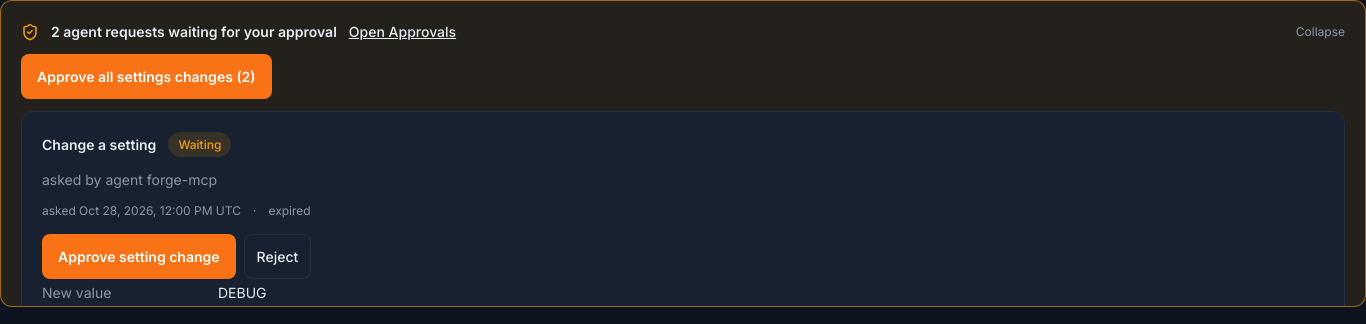
[ApprovalsBanner] › should approve from the banner with ONE post and no agent header, then drop the card
Step 1. Click the button with test id "approve-a" → (139, 256), box [42,233,236,278]
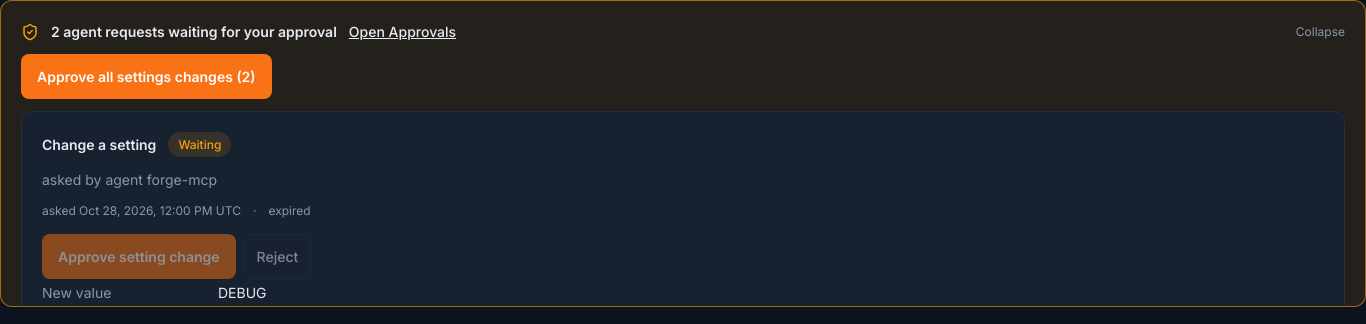
Step 2. Click the button with test id "approve-a" → (139, 256), box [42,233,236,278]
(page scrolled)
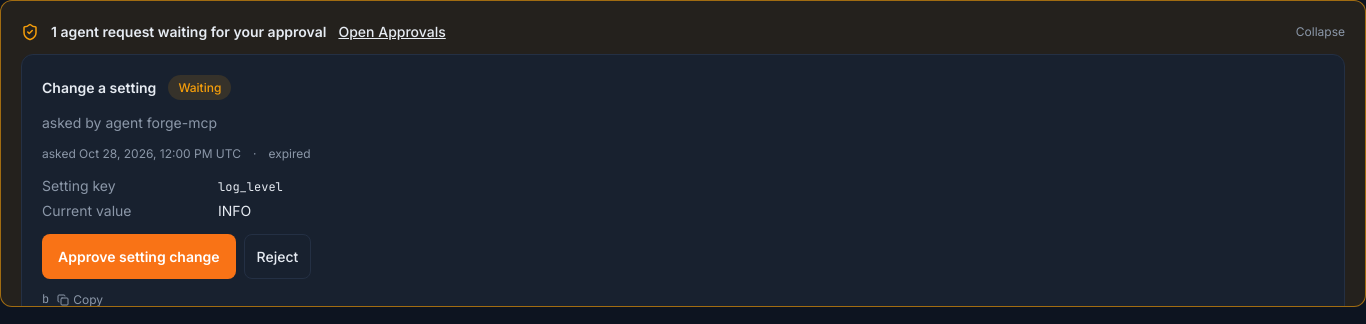
Expected: the heading with test id "approvals-banner-heading" shows "1 agent request waiting", [51,23,326,40]
